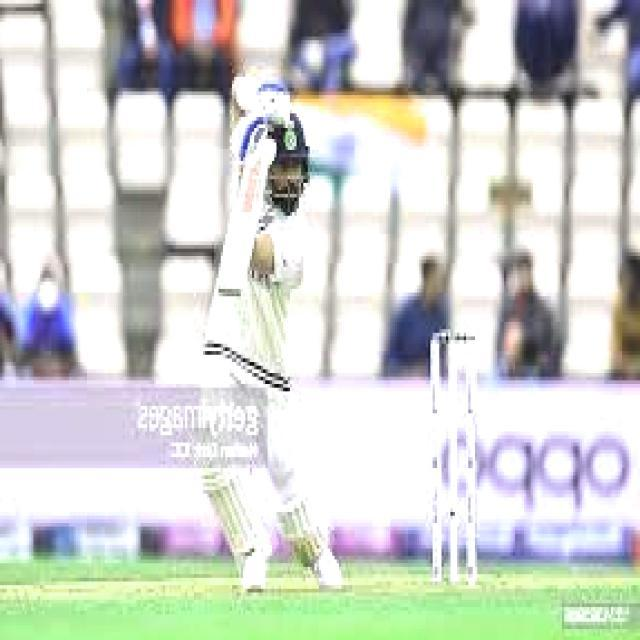bat: (213, 166, 260, 301)
toe: (217, 284, 239, 298)
